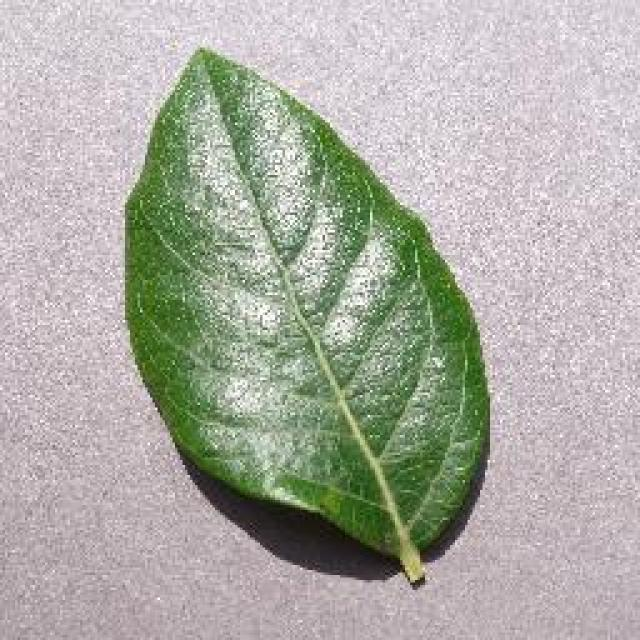Blu_healthy: (130, 112, 468, 496)
